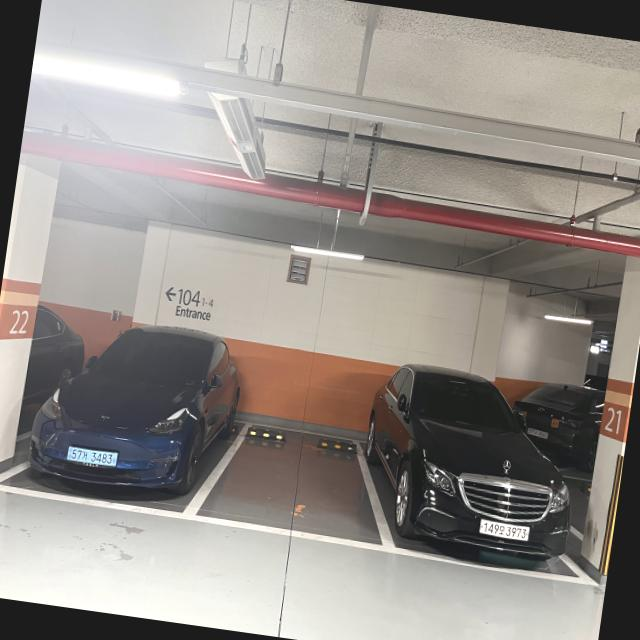car: (361, 346, 584, 586), (22, 304, 236, 527)
free: (184, 412, 412, 552)
